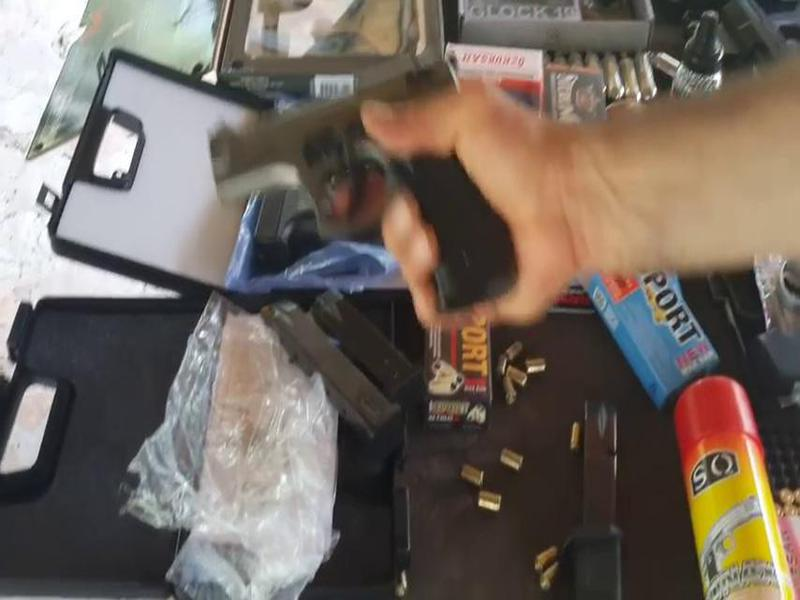Pistola: (206, 80, 555, 330)
